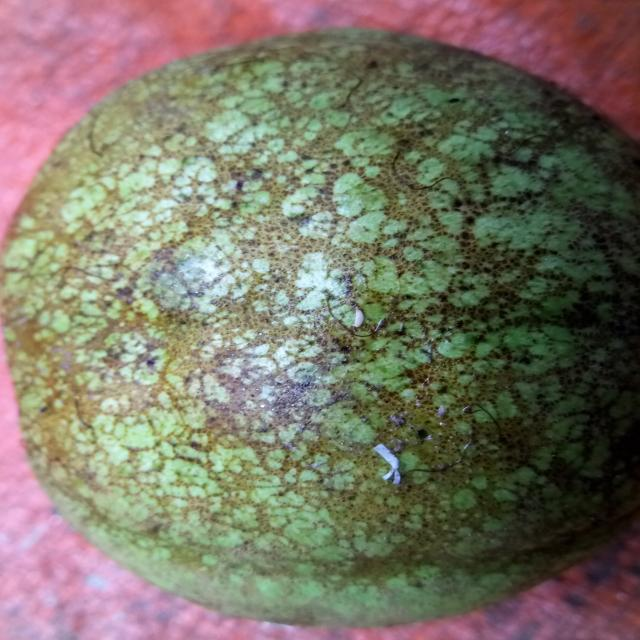Scab: (3, 30, 637, 626)
